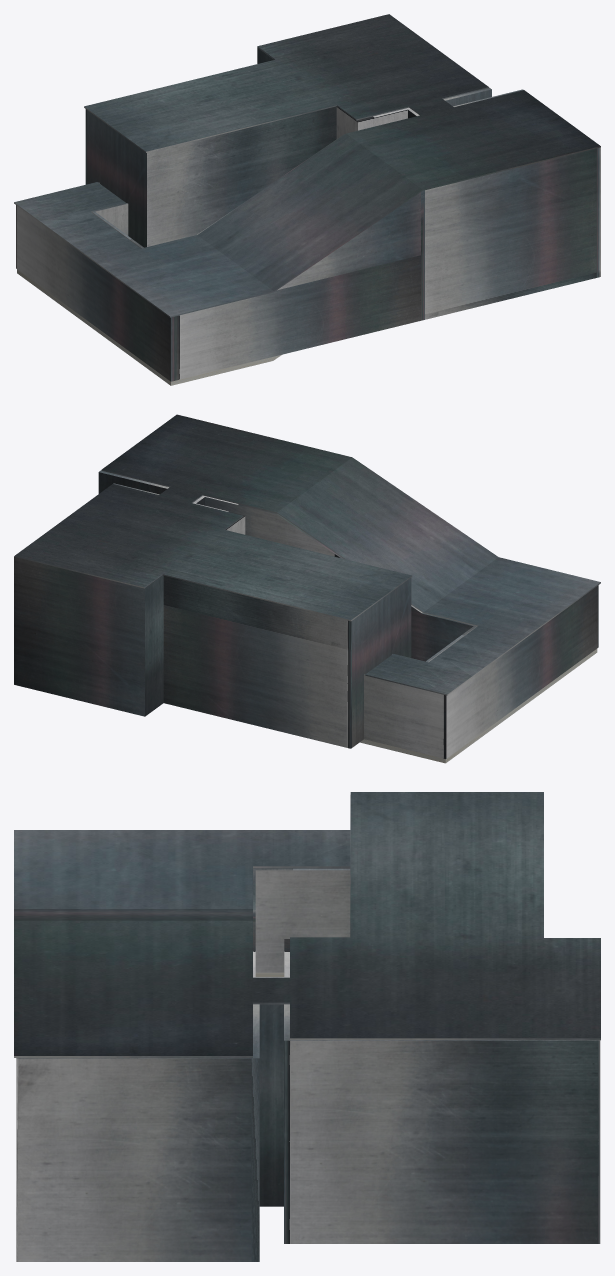
Rendered from ContainmentMap.fbx.
The picture shows the model from 3 angles, top to bottom: view 1: azimuth 30°, elevation 25°; view 2: azimuth 150°, elevation 25°; view 3: azimuth 270°, elevation 25°; orthographic projection. The views are drawn at different scales.
Parts seen in each view (by area): view 1: pCube6, pCube11, Room1Floor1; view 2: pCube6, pCube11, Room1Floor1; view 3: pCube6, pCube11.
Boxes of the visible parts, bbox=[...] form: pCube6: bbox=[16, 47, 600, 381]; pCube11: bbox=[14, 14, 600, 317]; Room1Floor1: bbox=[17, 269, 281, 385]; pCube6: bbox=[14, 470, 598, 758]; pCube11: bbox=[14, 414, 600, 695]; Room1Floor1: bbox=[360, 649, 597, 763]; pCube6: bbox=[16, 795, 600, 1261]; pCube11: bbox=[14, 792, 600, 1057].
Bounding box in the file's own units: 20.08 × 6.06 × 15.16.
